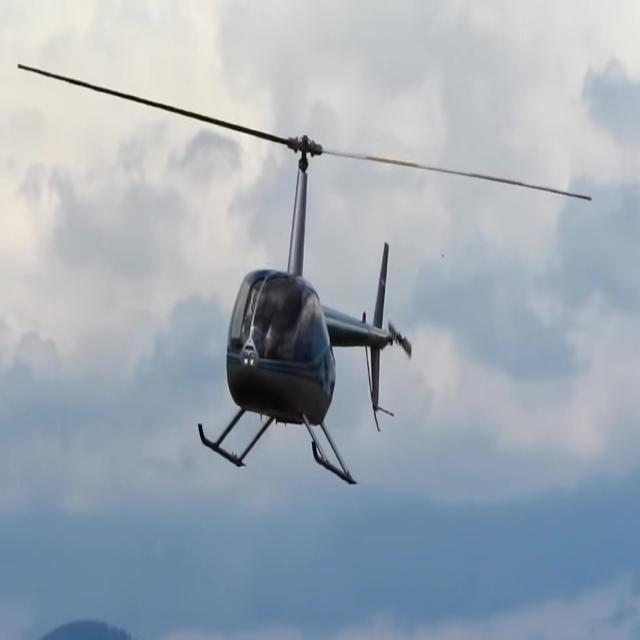CIV_HELO: (196, 132, 390, 488)
